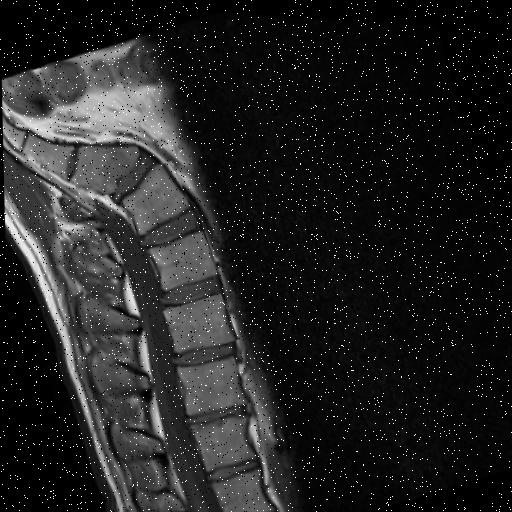L1: (188, 412, 252, 469)
L2: (174, 353, 242, 410)
L3: (160, 290, 230, 350)
L4: (147, 229, 212, 287)
L5: (120, 163, 187, 233)
S1: (68, 143, 137, 193)
